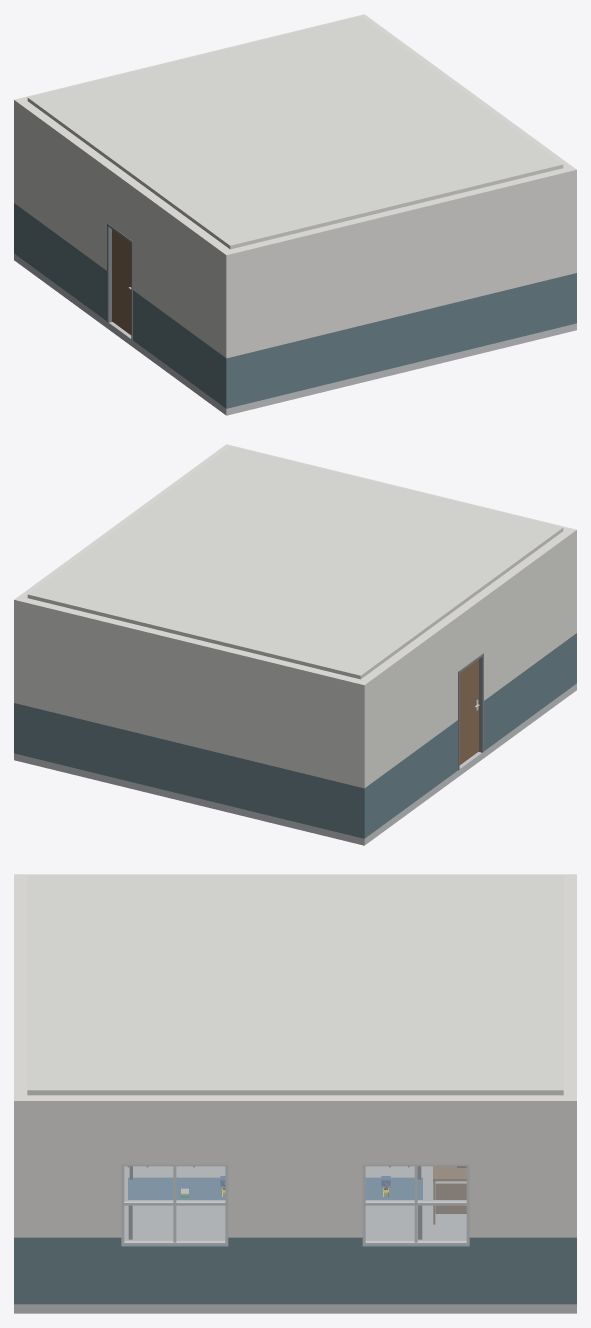
Rendered from computer_lab_production.glb.
3 renders of one model, top to bottom at view 1: azimuth 30°, elevation 25°; view 2: azimuth 150°, elevation 25°; view 3: azimuth 270°, elevation 25°, orthographic. The views are drawn at different scales.
Visible parts, largest first — view 1: Lab_Ceiling, Merged_Mat_Wall_Lab_Plaster, Merged_Mat_Wall_Lab_Dado, Lab_Floor, Door_Slab_Mesh; view 2: Lab_Ceiling, Merged_Mat_Wall_Lab_Plaster, Merged_Mat_Wall_Lab_Dado, Lab_Floor, Door_Slab_Mesh; view 3: Lab_Ceiling, Merged_Mat_Wall_Lab_Plaster, Merged_Mat_Wall_Lab_Dado, Lab_Floor, Window_Glass_Lab_1, Window_Glass_Lab_2, Merged_Mat_Window_Frame_Aluminum, Merged_Mat_Lab_Bench_ESD, Merged_Mat_Instructor_Wood.
Part boxes in pixels (<box>): Lab_Ceiling: <box>27,16,563,249</box>; Merged_Mat_Wall_Lab_Plaster: <box>14,14,576,358</box>; Merged_Mat_Wall_Lab_Dado: <box>14,203,576,408</box>; Lab_Floor: <box>14,253,576,415</box>; Door_Slab_Mesh: <box>112,229,131,334</box>; Lab_Ceiling: <box>27,446,563,679</box>; Merged_Mat_Wall_Lab_Plaster: <box>14,444,576,788</box>; Merged_Mat_Wall_Lab_Dado: <box>14,633,576,838</box>; Lab_Floor: <box>14,683,576,845</box>; Door_Slab_Mesh: <box>459,659,478,764</box>; Lab_Ceiling: <box>27,875,563,1095</box>; Merged_Mat_Wall_Lab_Plaster: <box>14,874,576,1237</box>; Merged_Mat_Wall_Lab_Dado: <box>14,1237,576,1304</box>; Lab_Floor: <box>14,1166,576,1313</box>; Window_Glass_Lab_1: <box>365,1166,466,1240</box>; Window_Glass_Lab_2: <box>124,1166,225,1240</box>; Merged_Mat_Window_Frame_Aluminum: <box>121,1164,469,1245</box>; Merged_Mat_Lab_Bench_ESD: <box>128,1177,422,1199</box>; Merged_Mat_Instructor_Wood: <box>433,1166,466,1224</box>.
Size of the model in its own units: 8.01 by 3.58 by 8.4.
